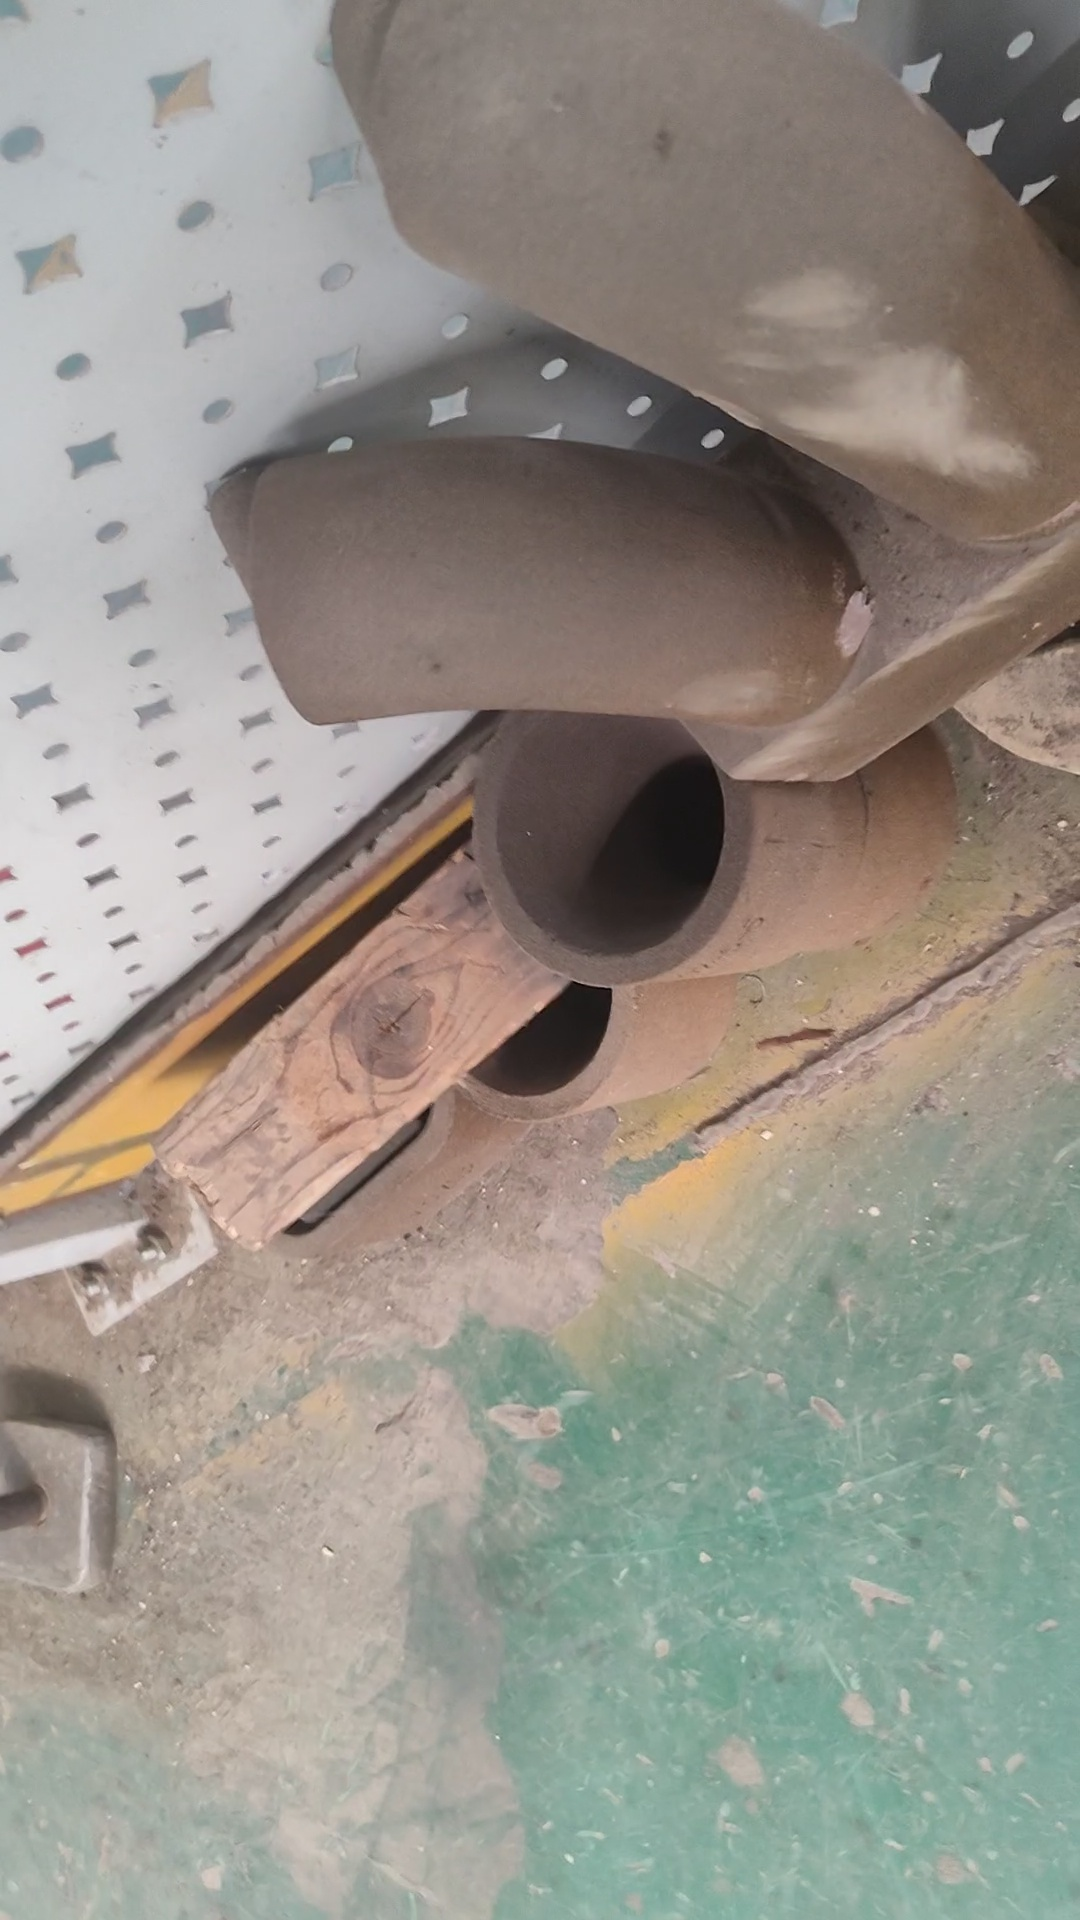pouring hole: (496, 705, 727, 956), (438, 907, 612, 1097)
